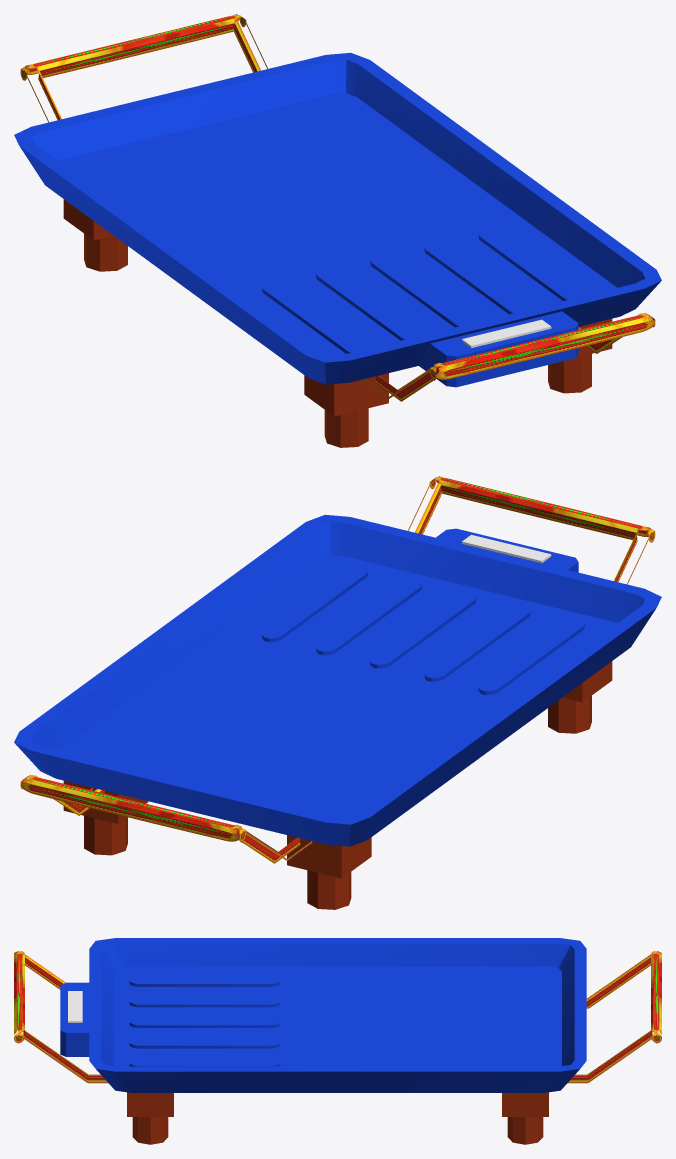
Rendered from Bep nuong suon cuu.FBX.
The picture shows the model from 3 angles, top to bottom: view 1: azimuth 30°, elevation 25°; view 2: azimuth 150°, elevation 25°; view 3: azimuth 270°, elevation 25°; orthographic projection. The views are drawn at different scales.
Visible parts, largest first — view 1: Box1247; view 2: Box1247; view 3: Box1247.
Boxes of the visible parts, x1,y1,x2,y2 form: Box1247: [14, 14, 661, 447]; Box1247: [14, 476, 661, 909]; Box1247: [14, 938, 661, 1144].
Bounding box in the file's own units: 1.76 × 0.6328 × 3.6.
